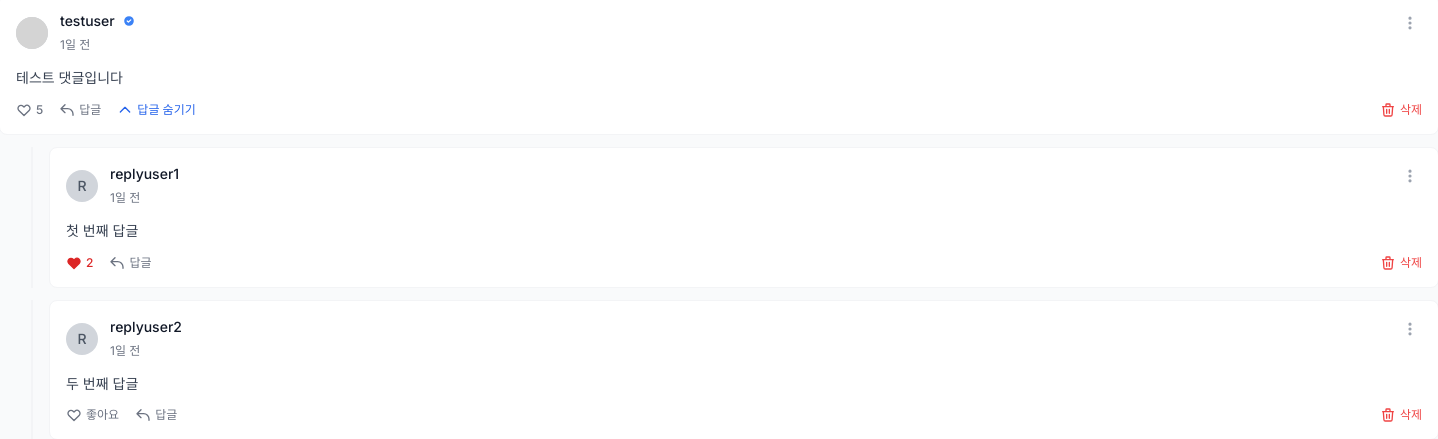
Comment › Replies handling › should toggle replies visibility
Note: Collapse replies
Step 1. Click the button "답글 숨기기" → x=156, y=110, box top-left (117, 102), bottom-right (196, 118)
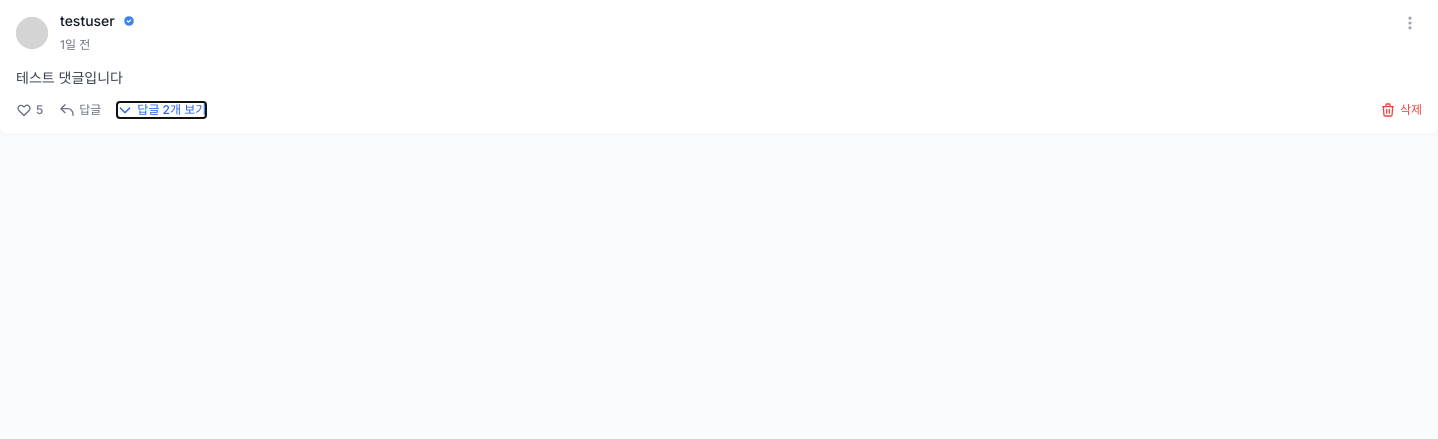
Check: the text "첫 번째 답글" is gone
Check: the text "두 번째 답글" is gone
Check: the button "답글 2개 보기" is shown
Note: Expand replies
Step 2. Click the button "답글 2개 보기" → x=162, y=110, box top-left (117, 102), bottom-right (206, 118)
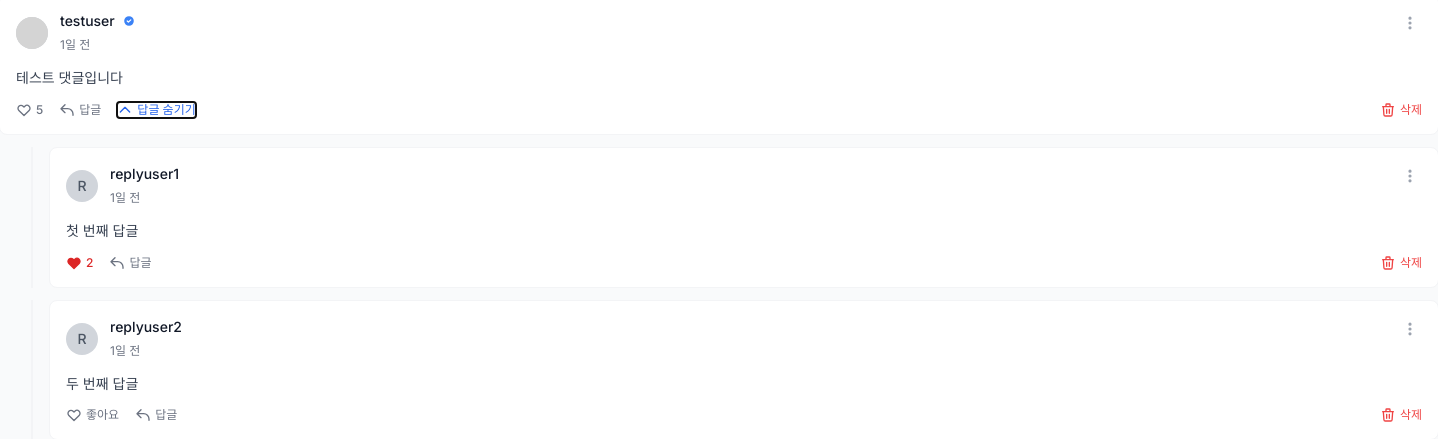
Check: the text "첫 번째 답글" is shown, box top-left (66, 222), bottom-right (138, 239)
Check: the text "두 번째 답글" is shown, box top-left (66, 374), bottom-right (138, 392)
